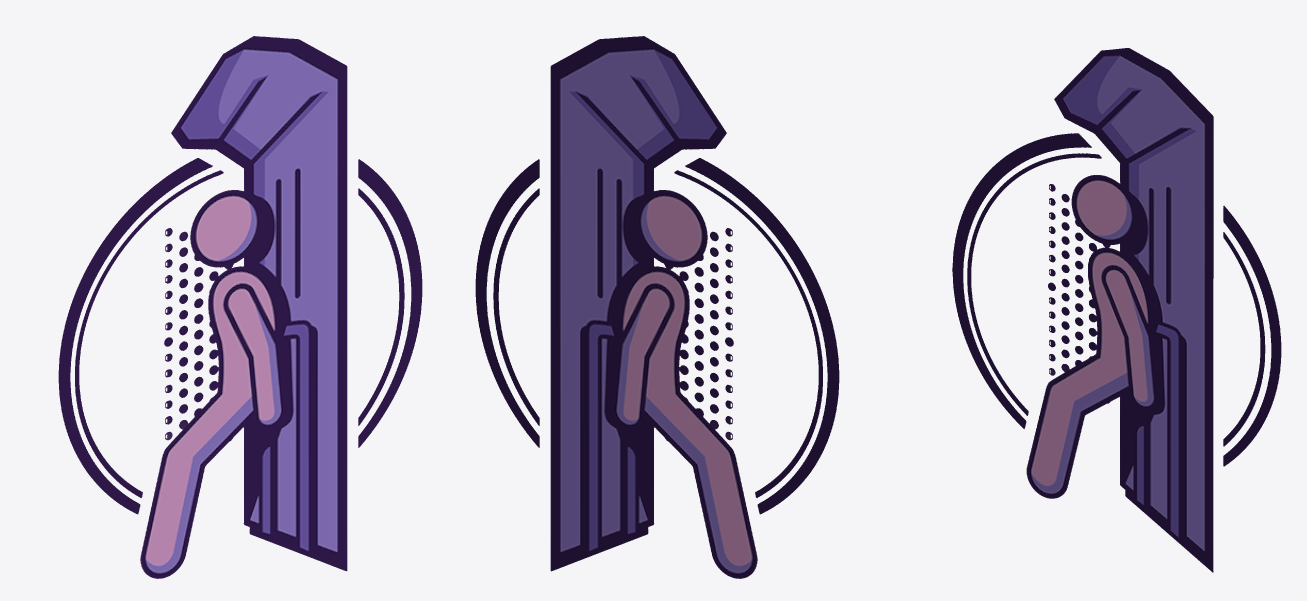
Rendered from PlatformGraffitiHide.fbx.
The picture shows the model from 3 angles, left to right: view 1: azimuth 30°, elevation 25°; view 2: azimuth 150°, elevation 25°; view 3: azimuth 330°, elevation 25°; orthographic projection. The views are drawn at different scales.
Visible parts, largest first — view 1: PlatformGraffitiHide; view 2: PlatformGraffitiHide; view 3: PlatformGraffitiHide.
Part boxes in pixels (x1,y1,x2,y2): PlatformGraffitiHide: [58, 36, 422, 578]; PlatformGraffitiHide: [475, 36, 839, 578]; PlatformGraffitiHide: [952, 48, 1281, 572].
Bounding box in the file's own units: 38.67 × 51.07 × 2.38e-06.
1 material, 1 textured.
